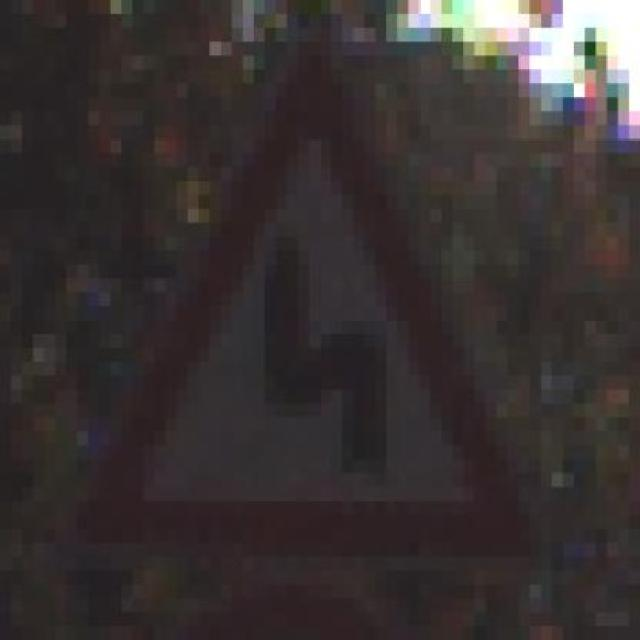Left Zig Zag Traffic: (66, 42, 552, 570)
